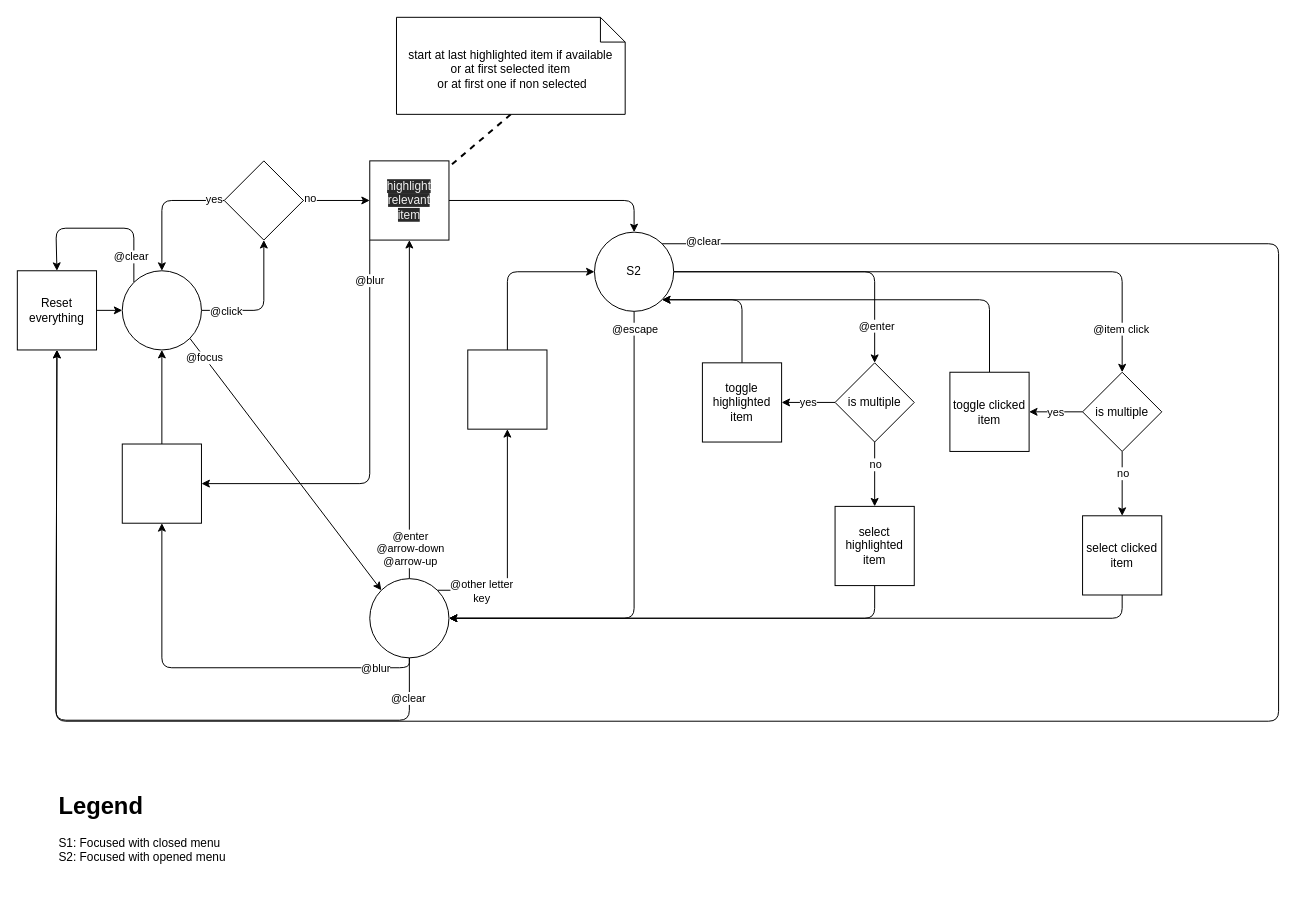
The diagram is 1304 pixels wide and 923 high, and some of its shapes have lost their labels. Here are the shapes that lost their labels. From the top down, the centre of each, then its label:
point (263, 200): is disabled
point (161, 310): IDLE
point (507, 389): select item that matches key
point (161, 483): Reset everything but not selected items
point (409, 618): S1
